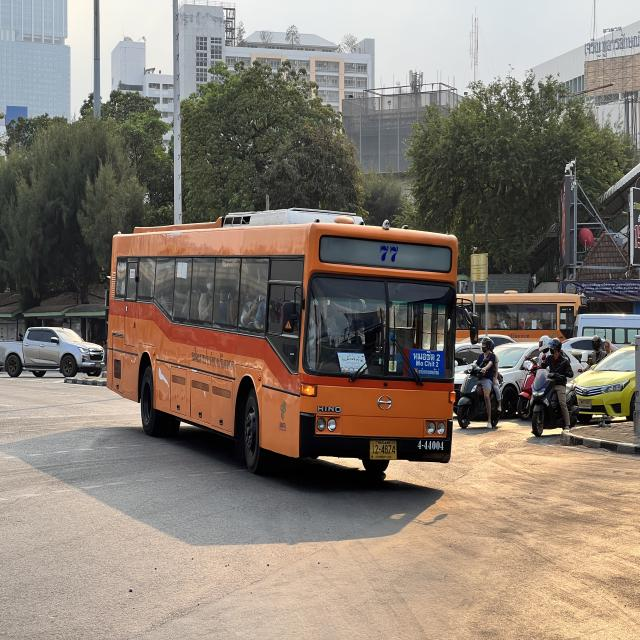BMTA-bus: (104, 210, 460, 480), (459, 292, 584, 344)
Bus Line Number: (369, 238, 408, 269)
Bus Side Number: (415, 438, 446, 453)
Destination Sign: (410, 350, 445, 378)
